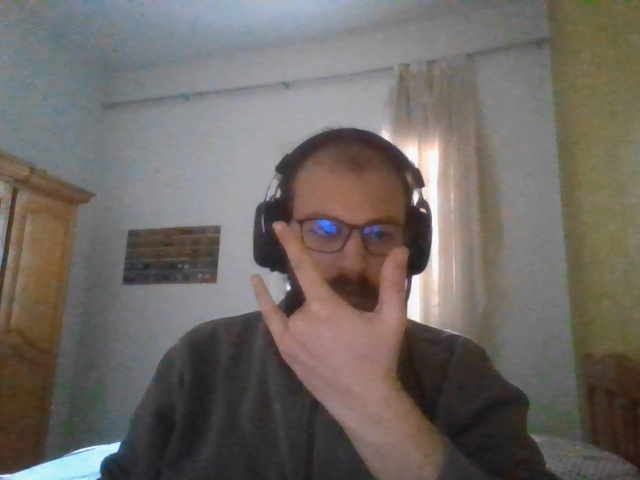I Love You: (251, 221, 409, 410)
